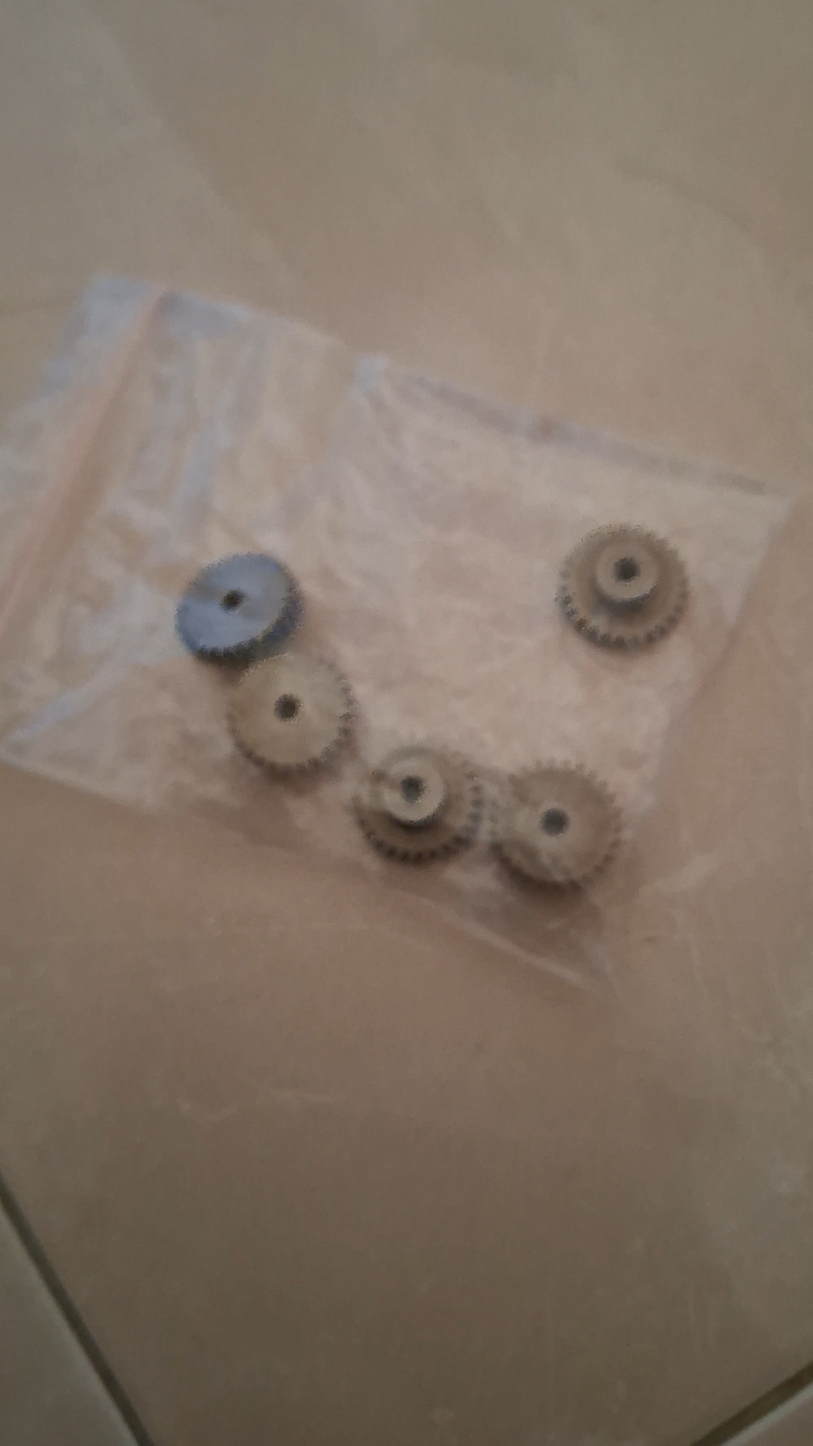spur gear: (558, 526, 688, 648), (494, 765, 620, 885), (355, 746, 482, 862), (229, 653, 352, 771), (176, 554, 300, 662)
